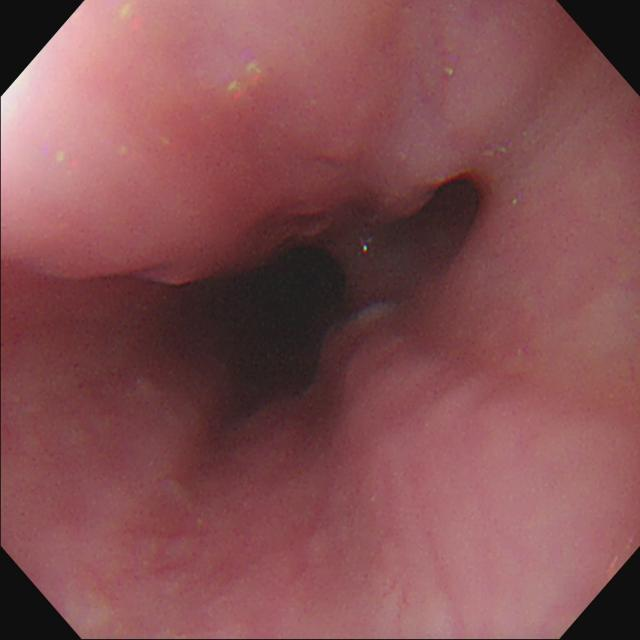E: (212, 241, 350, 409)
